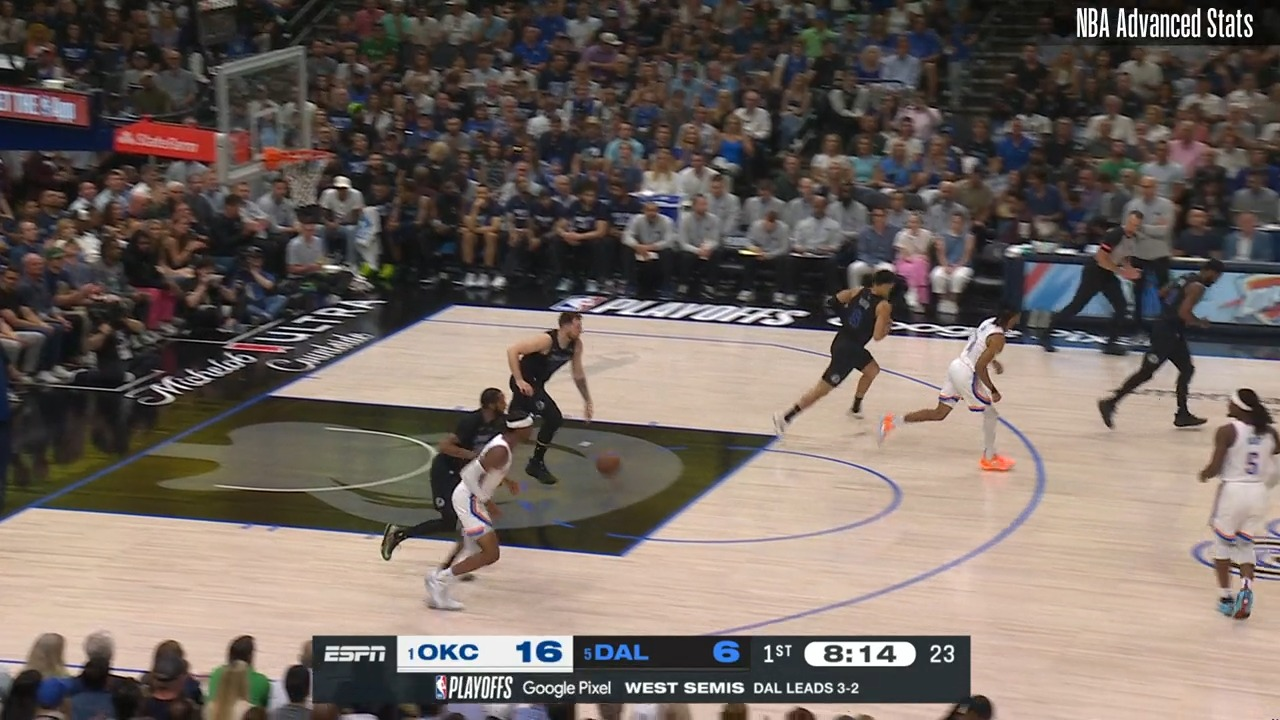basketball: (595, 449, 623, 480)
